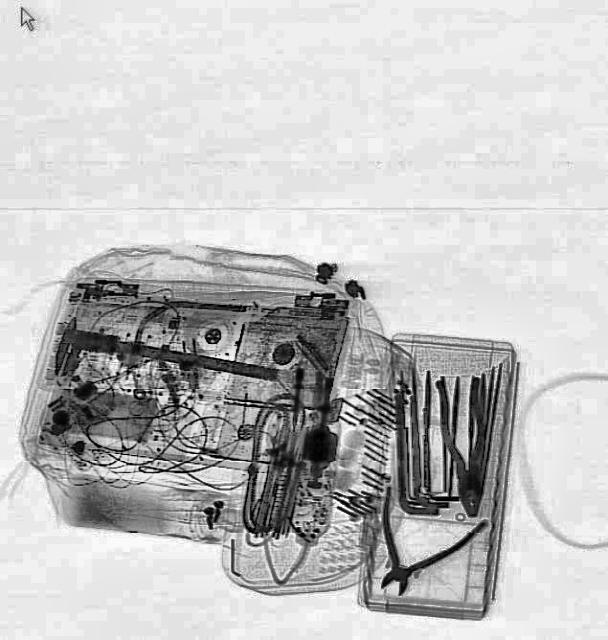Pliers: (346, 483, 484, 613), (435, 376, 494, 518)
